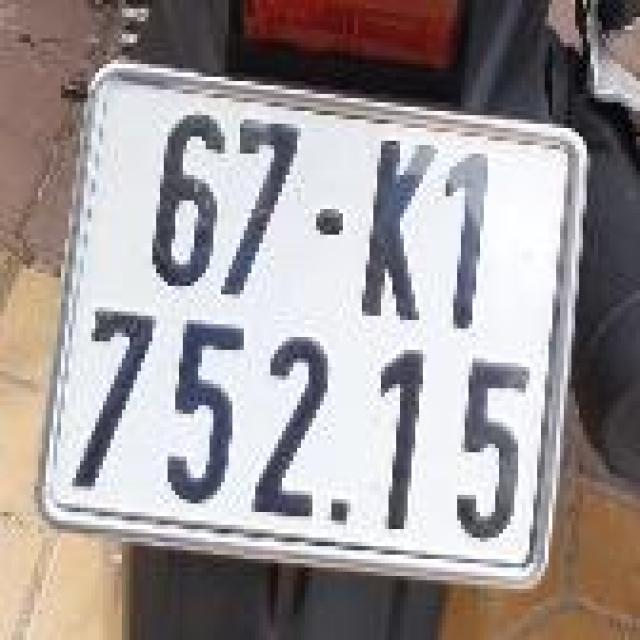1: (352, 348, 437, 535), (440, 137, 512, 337)
2: (246, 312, 333, 520)
5: (442, 337, 533, 568), (162, 303, 249, 520)
6: (147, 89, 230, 286)
7: (223, 100, 307, 301), (74, 290, 154, 495)
K: (352, 109, 432, 335)
